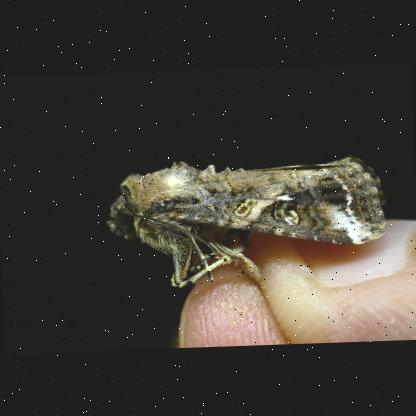Fall Armyworm Moth: (103, 151, 390, 292)
